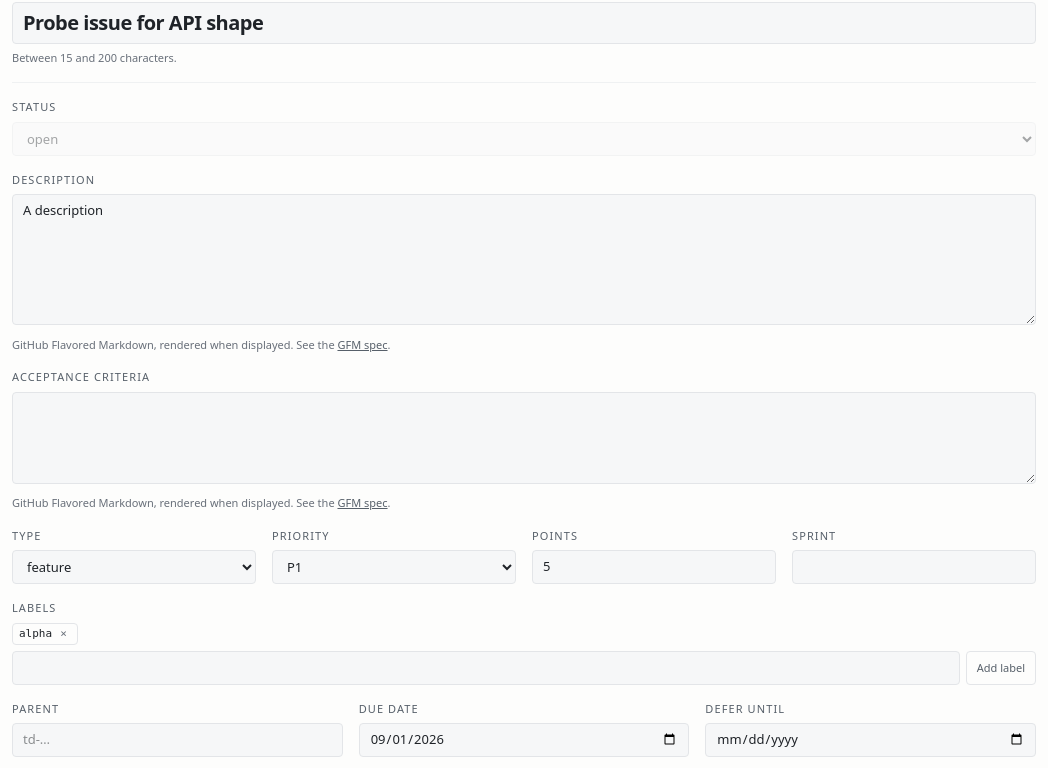
Test case: IssueEditForm › offers a closed epic as a parent
Click the dropdown labelled "Parent".
click(177, 740)  # box [12,723,343,756]
(page scrolled)
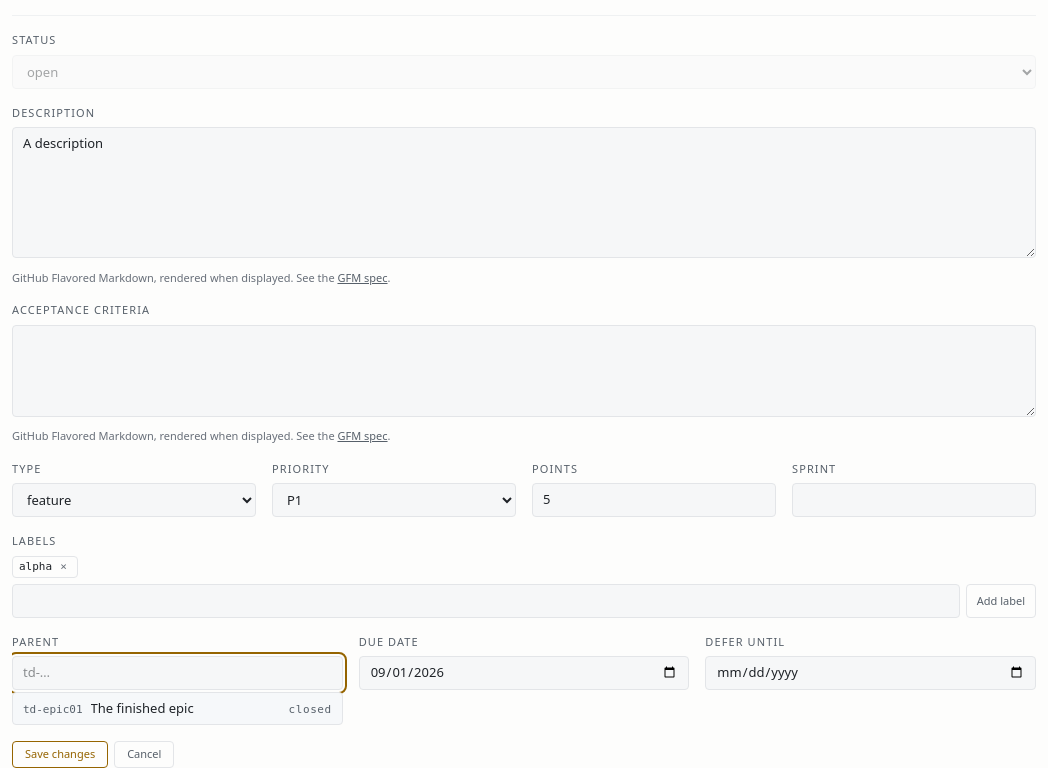
Result: the option shows "The finished epic" at [23,698,332,716]
